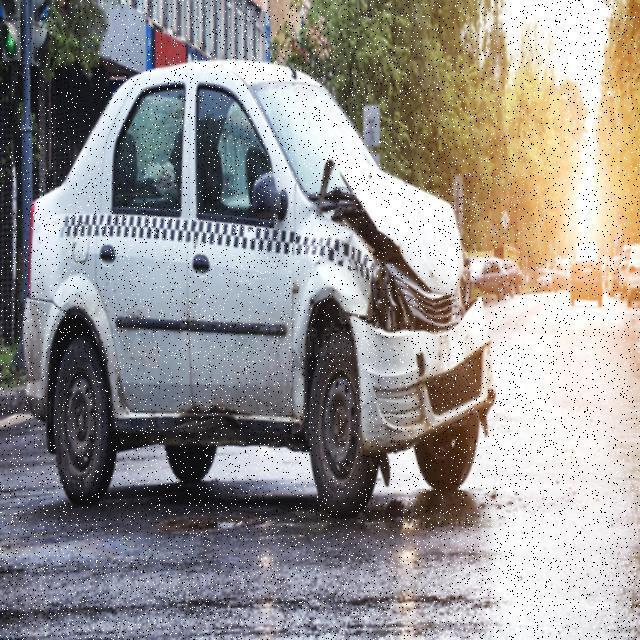RunningBoard-Dent: (114, 388, 238, 432)
bonnet-dent: (312, 144, 466, 299)
front-bumper-dent: (334, 282, 506, 457)
